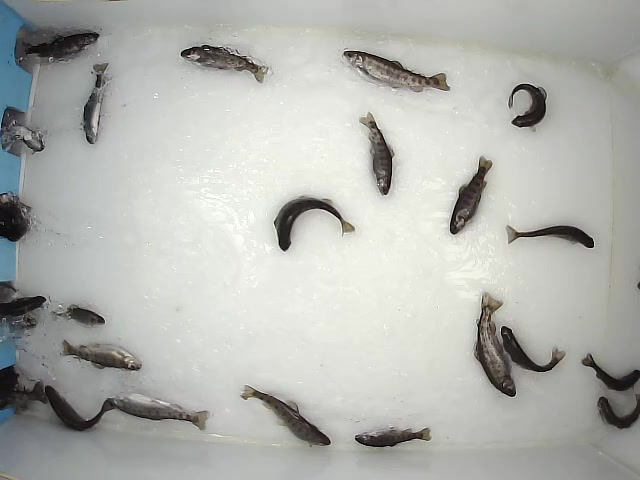fish: (238, 382, 332, 447), (270, 193, 358, 252), (340, 49, 452, 95), (473, 291, 517, 396), (112, 391, 210, 432), (177, 45, 269, 86), (448, 154, 493, 237), (43, 384, 115, 432), (500, 323, 567, 373), (357, 111, 395, 197), (60, 338, 143, 373), (17, 27, 102, 61), (80, 61, 112, 145), (505, 221, 595, 250), (352, 421, 431, 449), (507, 79, 548, 132), (581, 356, 640, 392), (594, 392, 640, 431), (55, 304, 107, 325), (359, 282, 360, 283)
